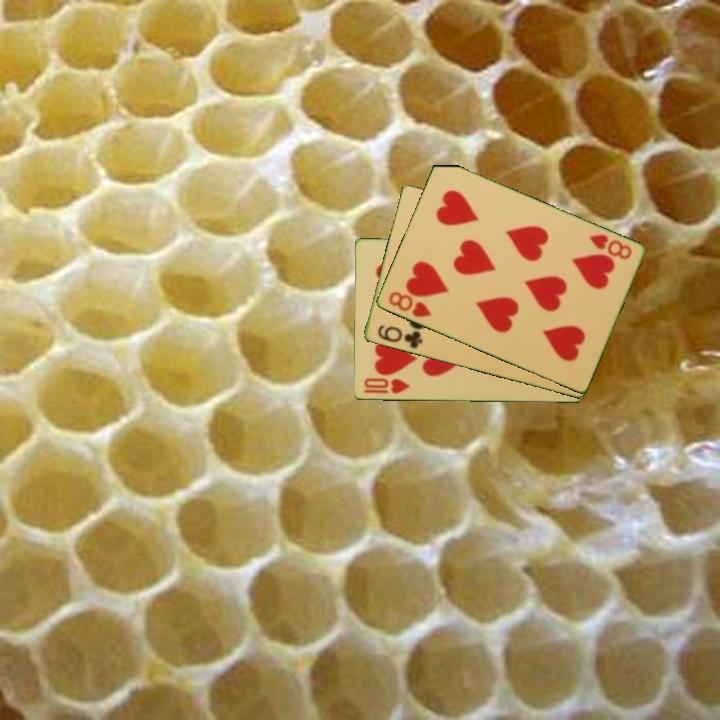10h: (360, 375, 412, 397)
6c: (374, 321, 425, 352)
8h: (384, 288, 434, 320), (585, 231, 634, 262)
